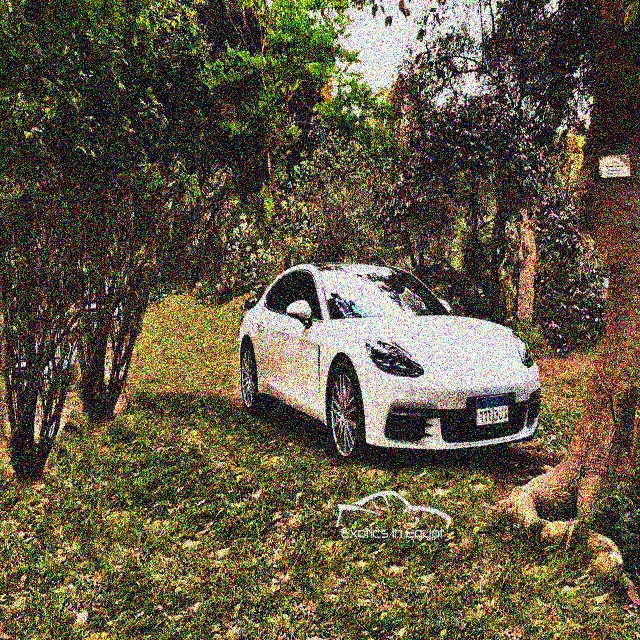License Plate: (474, 393, 510, 428)
